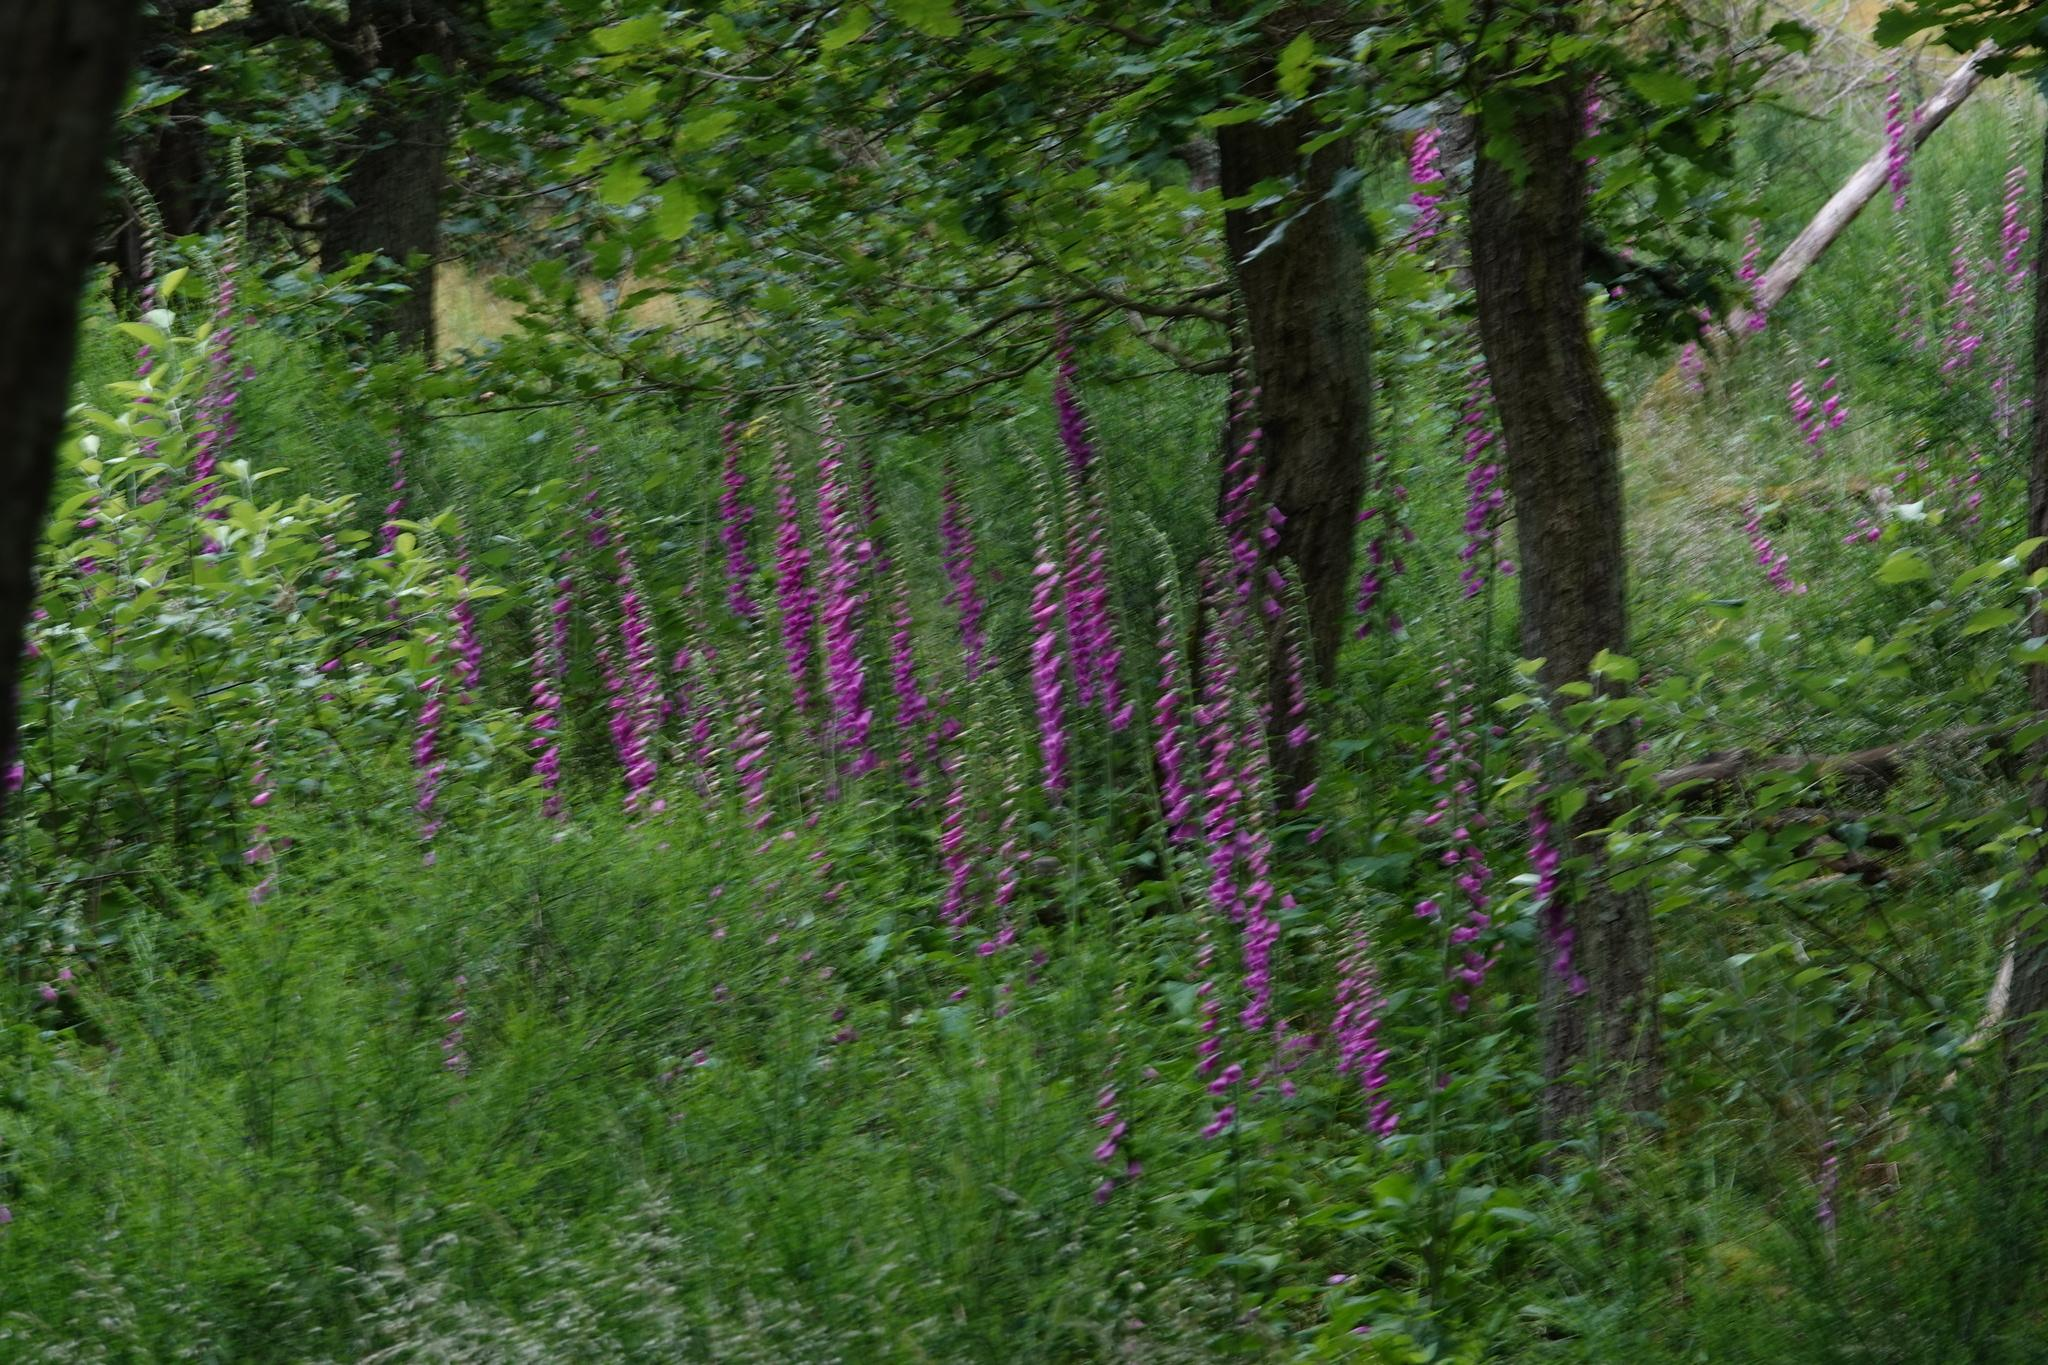Digitalis L: (1017, 343, 1296, 1179), (713, 430, 1014, 941), (495, 457, 691, 817), (1881, 66, 2037, 410), (1434, 398, 1500, 1156), (184, 143, 268, 506), (1349, 329, 1407, 852), (394, 536, 487, 839), (1316, 891, 1401, 1153), (1766, 366, 1873, 506), (1401, 133, 1454, 273)
